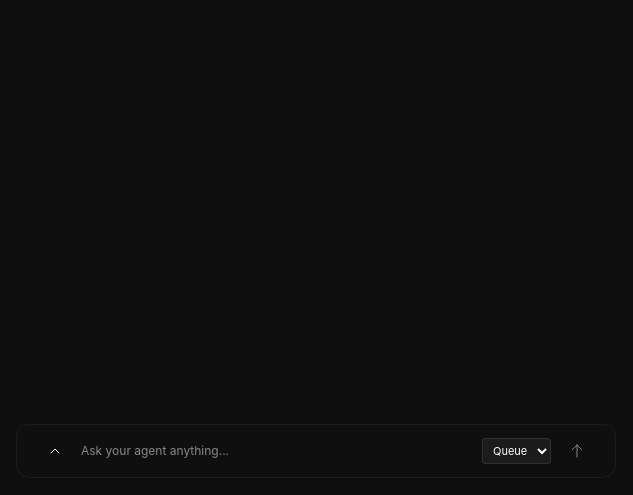
Test: FloatingChat › shows empty and failed history states without blocking a new chat
Click the button named "Expand agent chat". click: (55, 451)
box: [41,437,69,465]
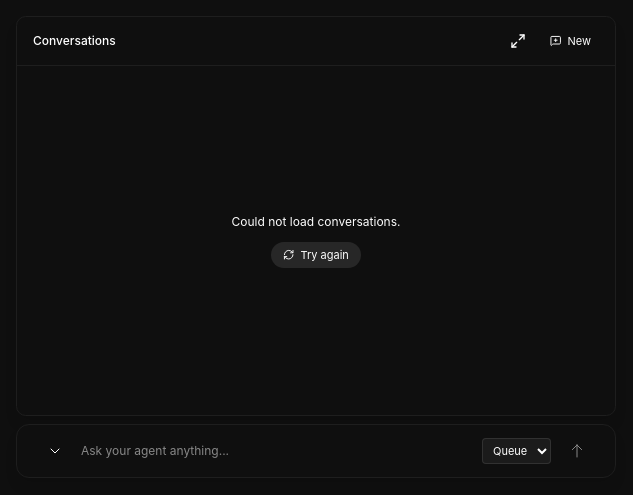
Expected: the text "Could not load conversations." is shown, [232,213,400,230]
Expected: the button "New" is shown, [542,30,599,52]
Click the button "Try again". click: (316, 255)
box: [271,242,361,268]
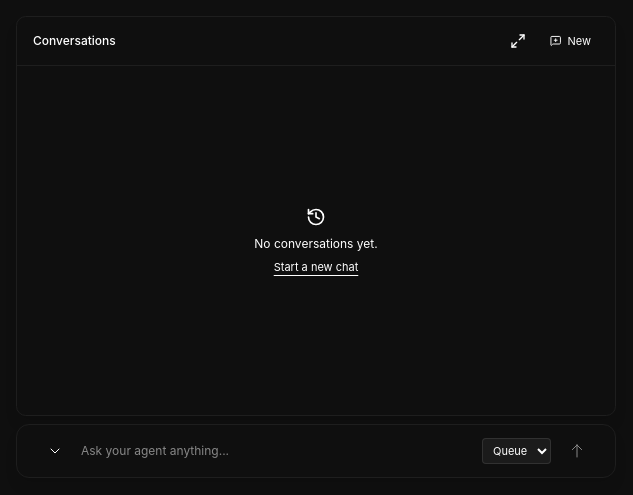
Expected: the text "No conversations yet." is shown, [254,235,378,252]
Click the button "Start a new chat". click: (316, 267)
box: [274,260,358,274]
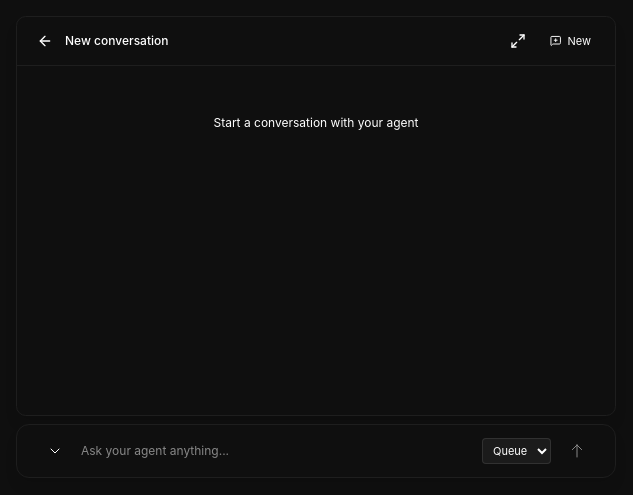
Expected: the text "Start a conversation with your agent" is shown, [214,115,418,130]
